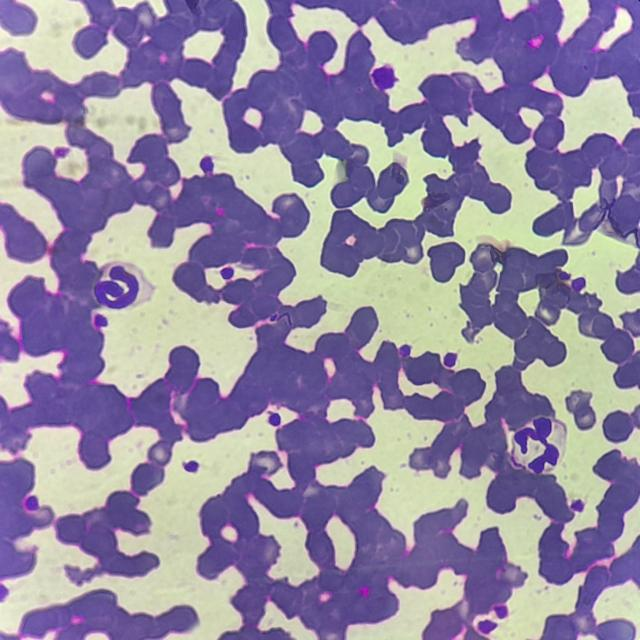Neutrofilo: (509, 415, 566, 471), (93, 261, 145, 311)
